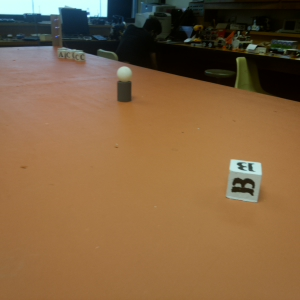blockA: (55, 49, 67, 59)
blockB: (224, 157, 265, 203)
blockC: (75, 50, 87, 63)
corner: (47, 13, 64, 46)
obstacle: (116, 65, 133, 104)
